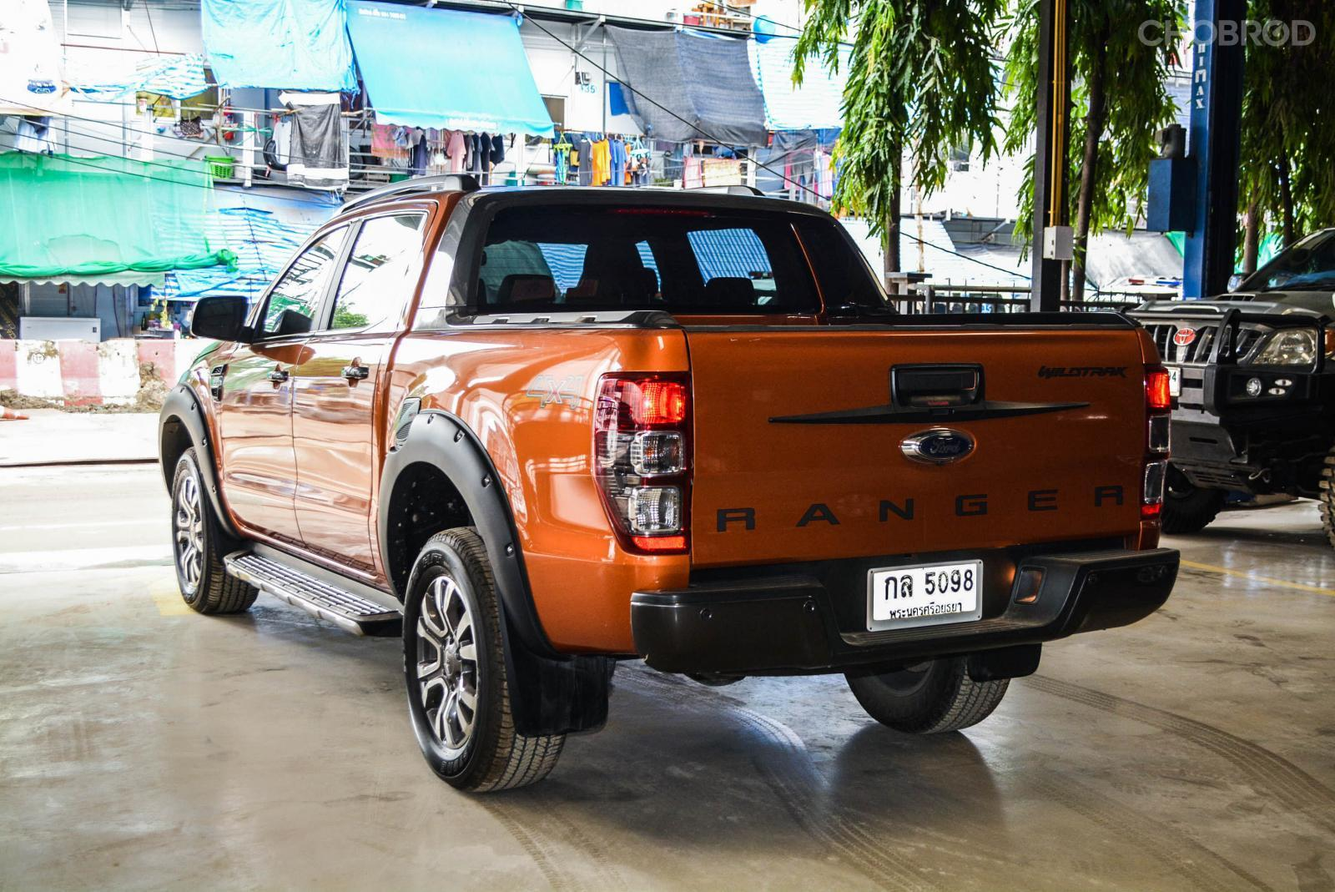license-plate: (869, 559, 989, 631)
